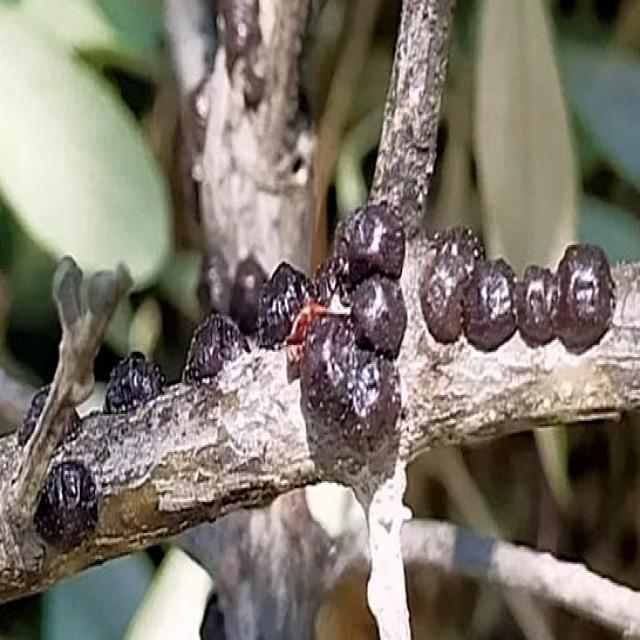Black Scale: (263, 200, 406, 457), (421, 228, 614, 352), (34, 452, 95, 552), (182, 309, 248, 383), (104, 352, 165, 412)
